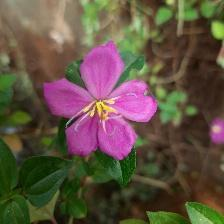malabar melastome: (42, 39, 159, 161)
